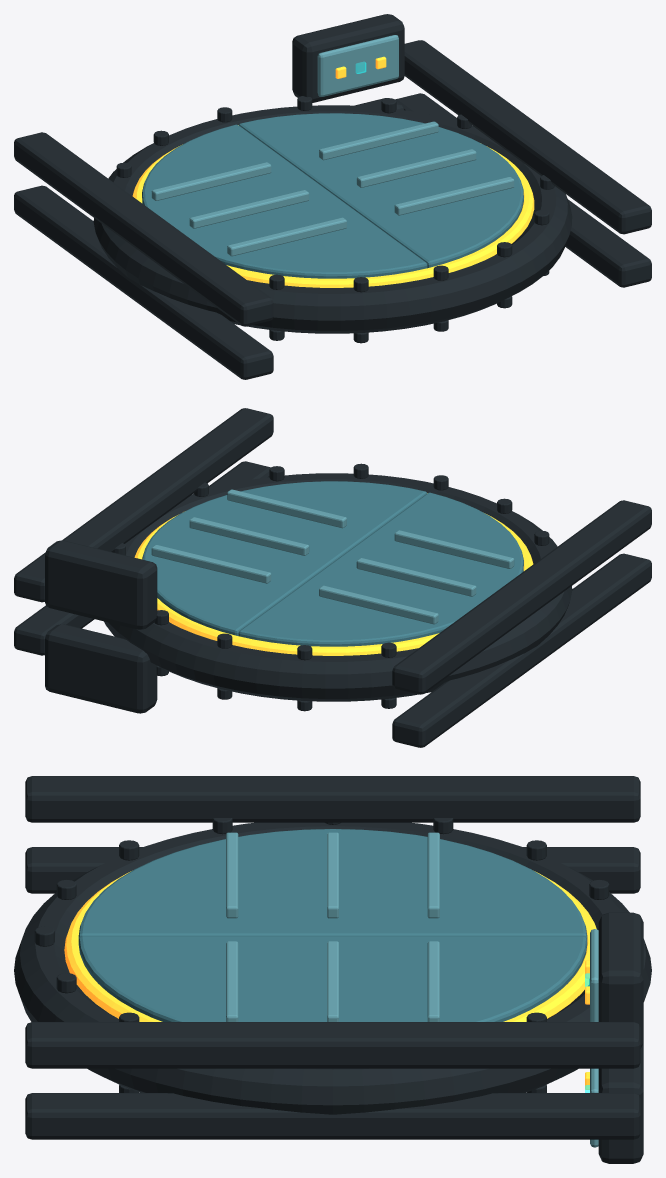
File: 06_round_sliding_bipartite.glb
3 renders of one model, top to bottom at view 1: azimuth 30°, elevation 25°; view 2: azimuth 150°, elevation 25°; view 3: azimuth 270°, elevation 25°, orthographic. The views are drawn at different scales.
Visible parts, largest first — view 1: Outer_Reinforced_Rim, Round_Half_1, Round_Half_2, Sliding_Track_Left_Top.001, Sliding_Track_Right_Top.001, Sliding_Track_Left.001, Sliding_Track_Right.001, Control_Top_Housing, Inner_Pressure_Seal_Top, Control_Top_Face, Round_Half_2_Top_Rib_1, Round_Half_1_Top_Rib_0 (+4 smaller); view 2: Round_Half_2, Round_Half_1, Outer_Reinforced_Rim, Sliding_Track_Left_Top.001, Sliding_Track_Right_Top.001, Sliding_Track_Left.001, Control_Top_Housing, Control_Bottom_Housing, Inner_Pressure_Seal_Top, Sliding_Track_Right.001, Round_Half_2_Top_Rib_0, Round_Half_2_Top_Rib_1 (+4 smaller); view 3: Round_Half_2, Round_Half_1, Outer_Reinforced_Rim, Sliding_Track_Right_Top.001, Sliding_Track_Left_Top.001, Sliding_Track_Right.001, Sliding_Track_Left.001, Control_Top_Housing, Inner_Pressure_Seal_Top, Control_Bottom_Housing, Round_Half_2_Top_Rib_0, Round_Half_2_Top_Rib_2 (+5 smaller).
Boxes of the visible parts, <box> form: Outer_Reinforced_Rim: <box>93,105,572,333</box>; Round_Half_1: <box>239,113,523,268</box>; Round_Half_2: <box>142,124,427,278</box>; Sliding_Track_Left_Top.001: <box>14,132,273,326</box>; Sliding_Track_Right_Top.001: <box>404,40,651,234</box>; Sliding_Track_Left.001: <box>14,185,273,379</box>; Sliding_Track_Right.001: <box>395,93,651,287</box>; Control_Top_Housing: <box>292,14,404,102</box>; Inner_Pressure_Seal_Top: <box>132,125,534,287</box>; Control_Top_Face: <box>317,35,398,96</box>; Round_Half_2_Top_Rib_1: <box>189,190,309,228</box>; Round_Half_1_Top_Rib_0: <box>394,177,514,215</box>; Round_Half_2: <box>238,492,523,646</box>; Round_Half_1: <box>142,481,426,635</box>; Outer_Reinforced_Rim: <box>104,473,572,701</box>; Sliding_Track_Left_Top.001: <box>392,500,651,694</box>; Sliding_Track_Right_Top.001: <box>14,408,273,602</box>; Sliding_Track_Left.001: <box>392,553,651,747</box>; Control_Top_Housing: <box>45,540,157,629</box>; Control_Bottom_Housing: <box>45,624,157,713</box>; Inner_Pressure_Seal_Top: <box>134,493,533,655</box>; Sliding_Track_Right.001: <box>14,461,270,655</box>; Round_Half_2_Top_Rib_0: <box>394,530,514,568</box>; Round_Half_2_Top_Rib_1: <box>356,558,476,596</box>; Round_Half_2: <box>78,829,587,939</box>; Round_Half_1: <box>78,936,587,1021</box>; Outer_Reinforced_Rim: <box>14,822,651,1114</box>; Sliding_Track_Right_Top.001: <box>25,1022,640,1068</box>; Sliding_Track_Left_Top.001: <box>25,776,640,822</box>; Sliding_Track_Right.001: <box>25,1093,640,1139</box>; Sliding_Track_Left.001: <box>25,847,640,893</box>; Control_Top_Housing: <box>598,912,643,1048</box>; Inner_Pressure_Seal_Top: <box>64,871,596,1021</box>; Control_Bottom_Housing: <box>598,1043,643,1163</box>; Round_Half_2_Top_Rib_0: <box>226,832,238,918</box>; Round_Half_2_Top_Rib_2: <box>427,832,439,918</box>.
Bounding box in the file's own units: 1.14 × 0.38 × 1.14.
